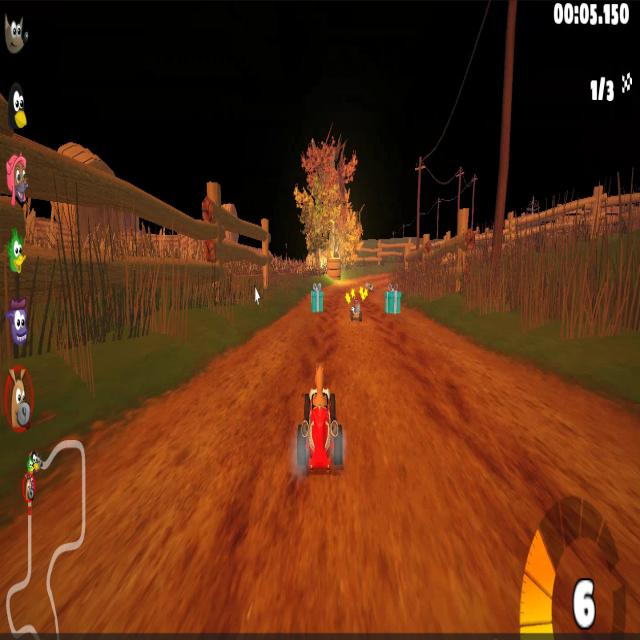bonus: (384, 280, 402, 319), (309, 285, 328, 314)
enemy_kart: (348, 289, 366, 328)
player_kart: (296, 361, 350, 484)
track: (298, 484, 636, 626), (40, 462, 295, 622), (353, 326, 505, 481), (150, 407, 297, 453), (509, 369, 562, 481), (566, 400, 636, 473), (268, 314, 352, 360), (208, 362, 294, 397), (332, 284, 344, 314), (373, 292, 383, 326), (364, 273, 397, 277)
